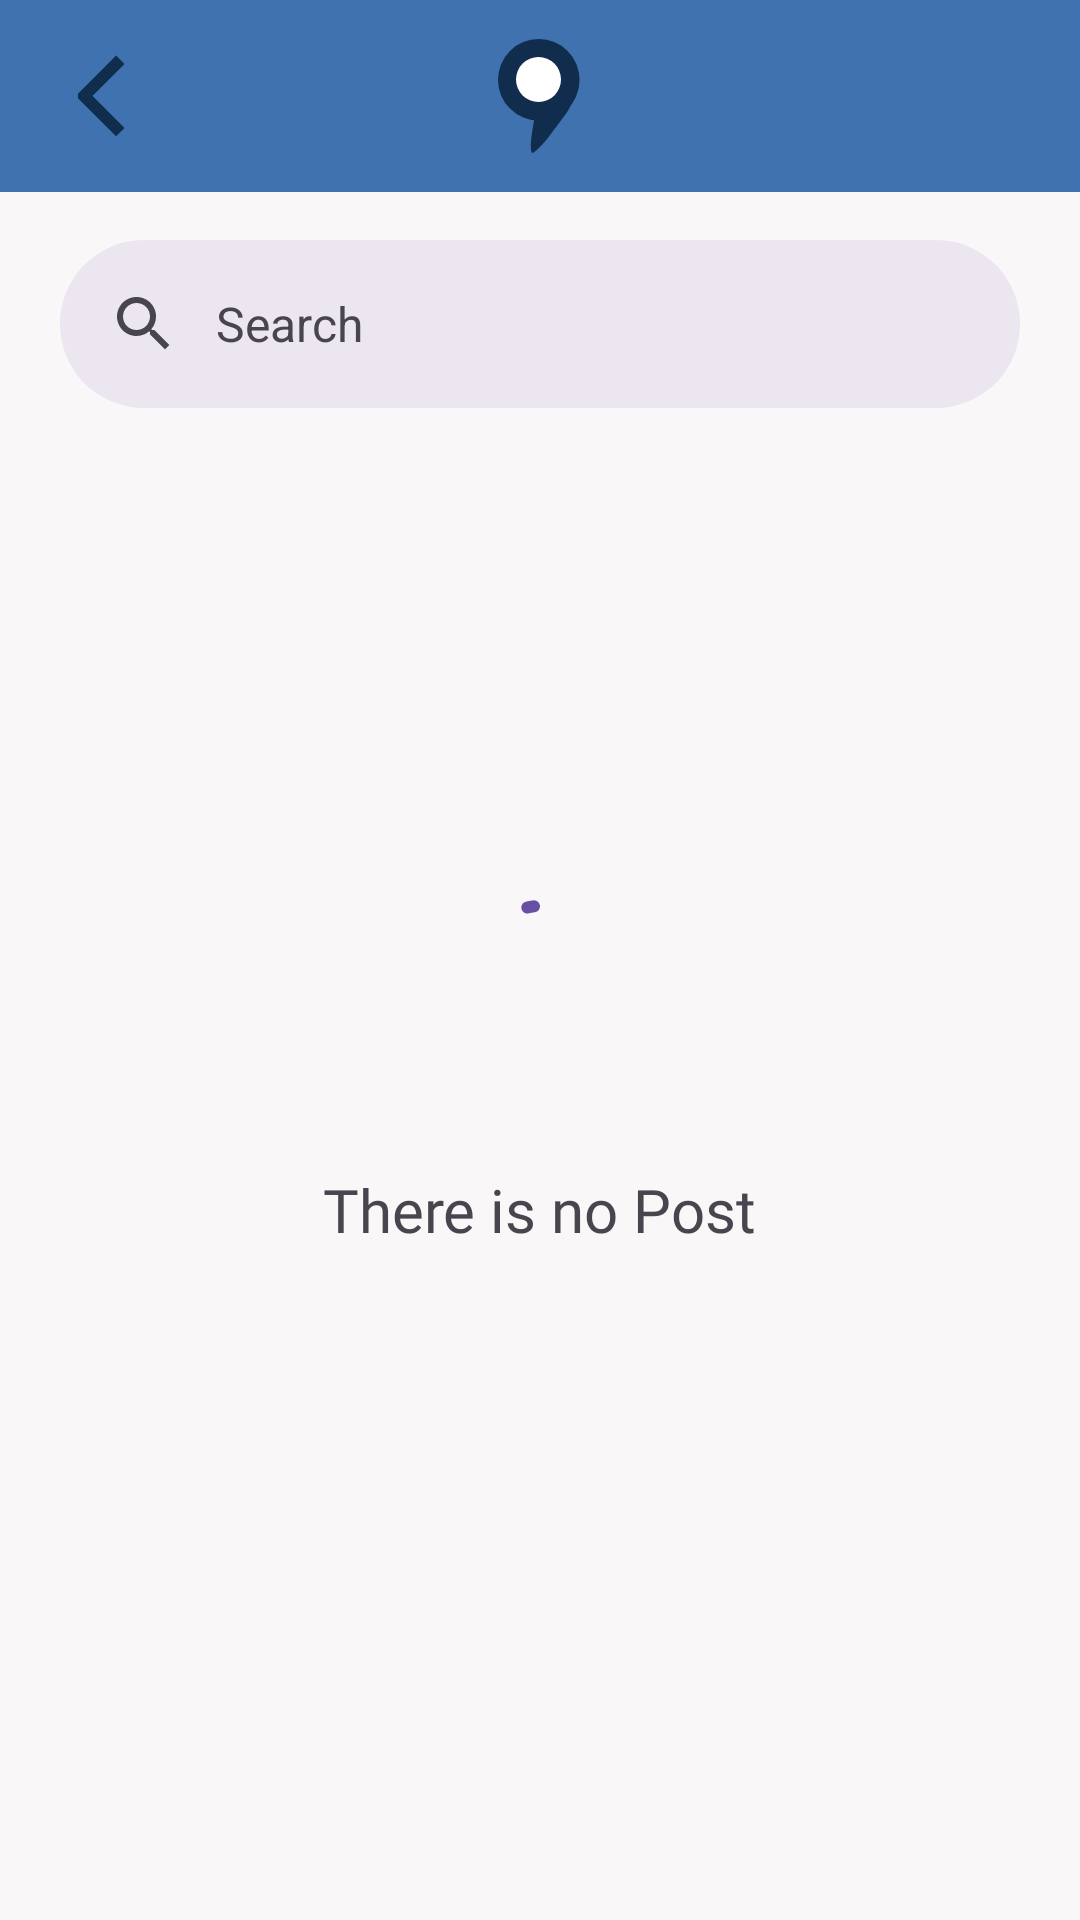

Icon click points for this 1080px×1920px phone screenshot, format (x=x, y=y):
arrow back: (x=101, y=96)
